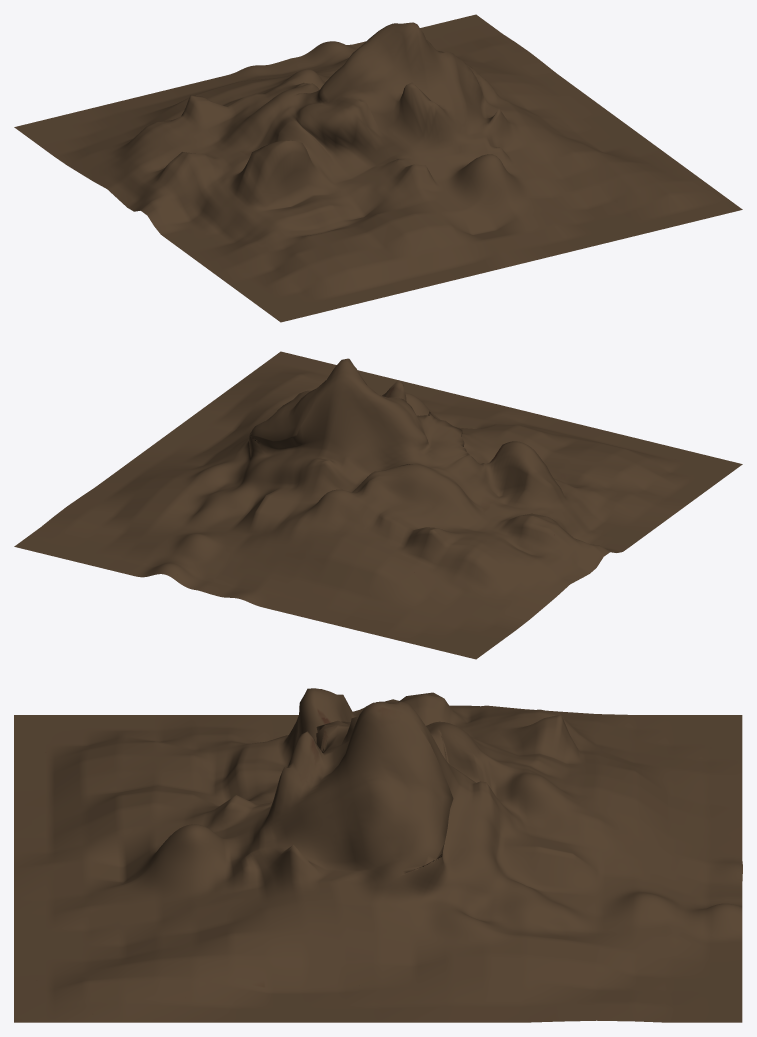
Rendered from Montagne.glb.
The picture shows the model from 3 angles, top to bottom: view 1: azimuth 30°, elevation 25°; view 2: azimuth 150°, elevation 25°; view 3: azimuth 270°, elevation 25°; orthographic projection. The views are drawn at different scales.
Visible parts, largest first — view 1: Plane; view 2: Plane; view 3: Plane.
Part boxes in pixels (<box>): Plane: <box>14,14,742,322</box>; Plane: <box>14,351,742,659</box>; Plane: <box>14,688,742,1022</box>.
Size of the model in its own units: 83.19 by 23.64 by 83.17.
Materials: 1 (1 with a texture image).
